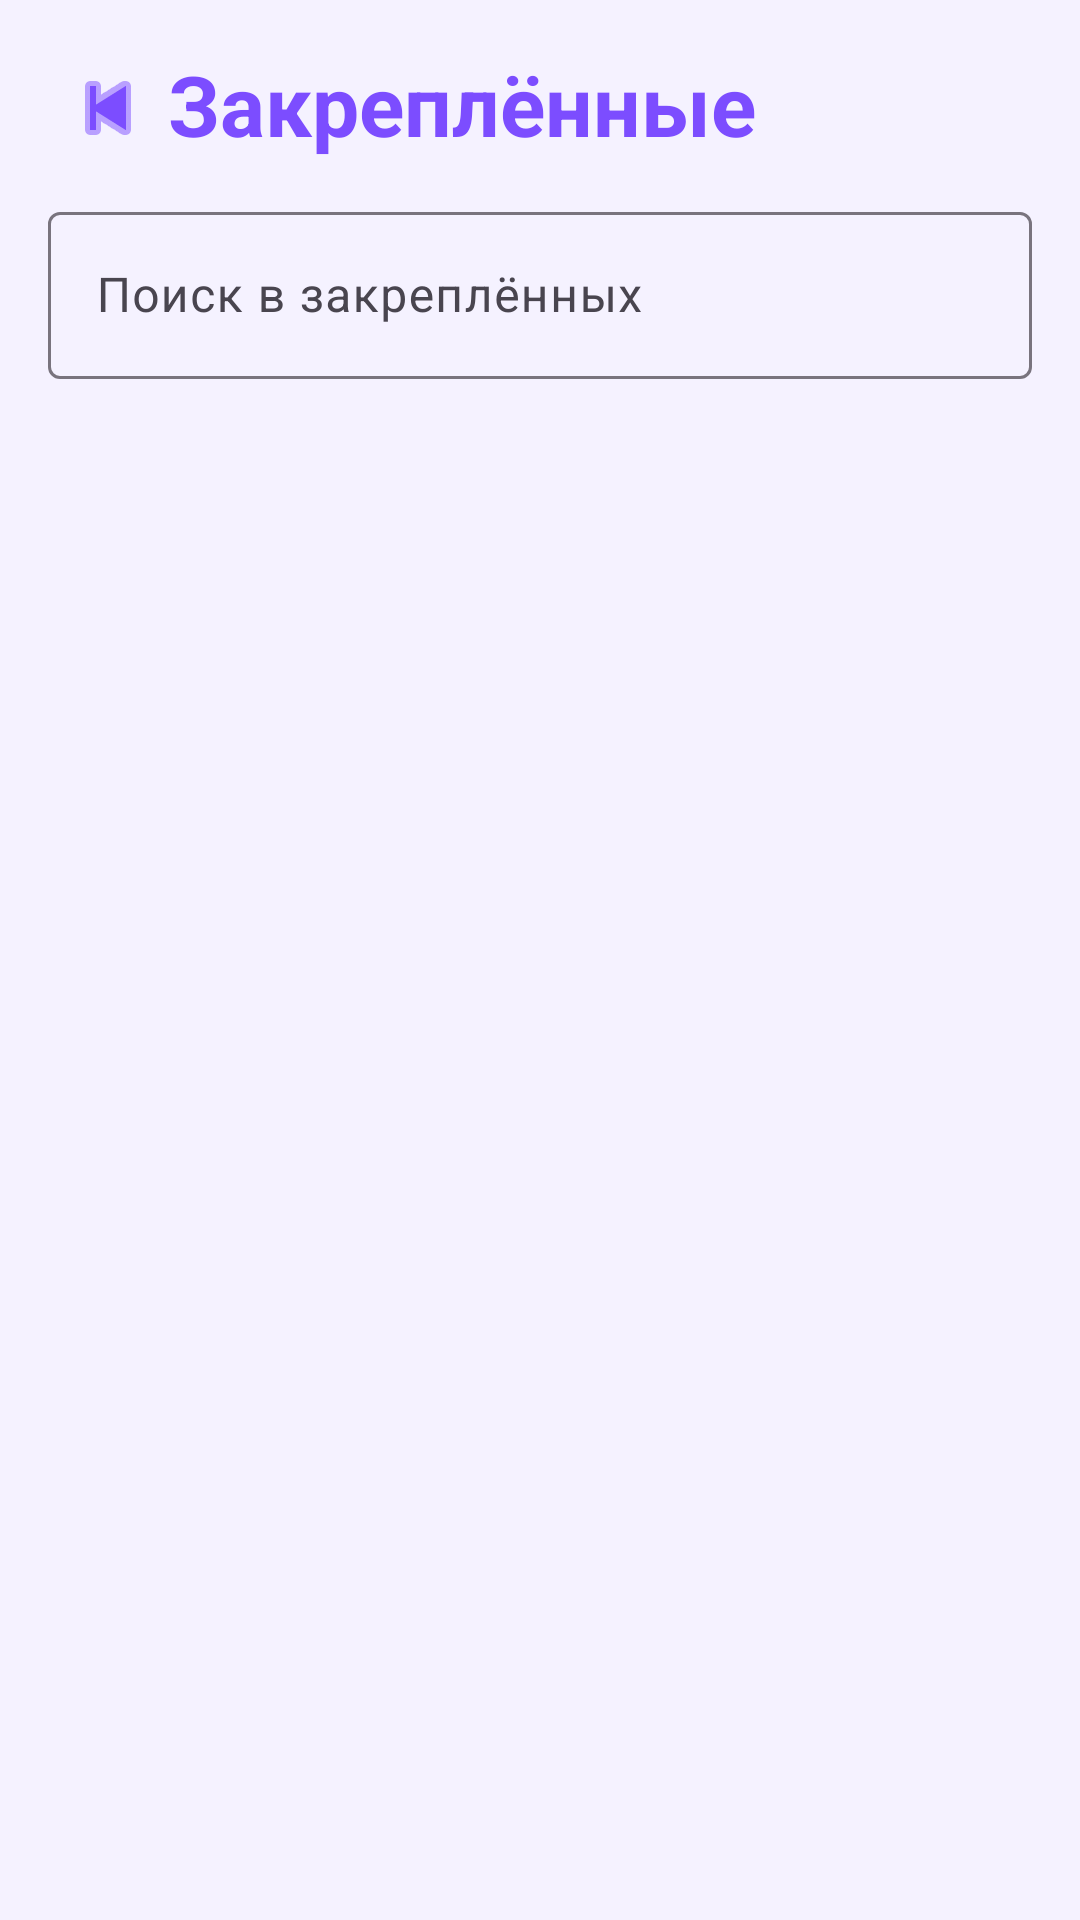

Named icons in this screenshot (1080px×1920px) and their centers, [x,y]:
previous: [108,108]
